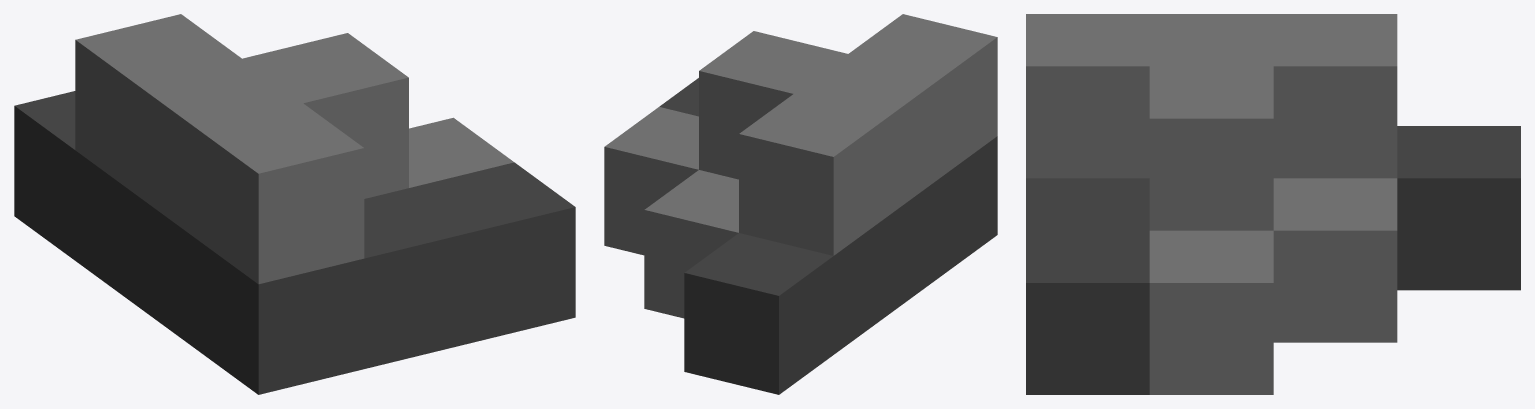
File: gather_rock_frth.obj
3 renders of one model, left to right at view 1: azimuth 30°, elevation 25°; view 2: azimuth 150°, elevation 25°; view 3: azimuth 270°, elevation 25°, orthographic. The views are drawn at different scales.
Parts seen in each view (by area): view 1: gather_rock_frth; view 2: gather_rock_frth; view 3: gather_rock_frth.
Boxes of the visible parts, box(x1,y1,x2,y2) form: gather_rock_frth: box(14, 14, 575, 394); gather_rock_frth: box(604, 14, 997, 394); gather_rock_frth: box(1026, 14, 1520, 394).
Size of the model in its own units: 3 by 2 by 4.
1 material, 1 textured.
